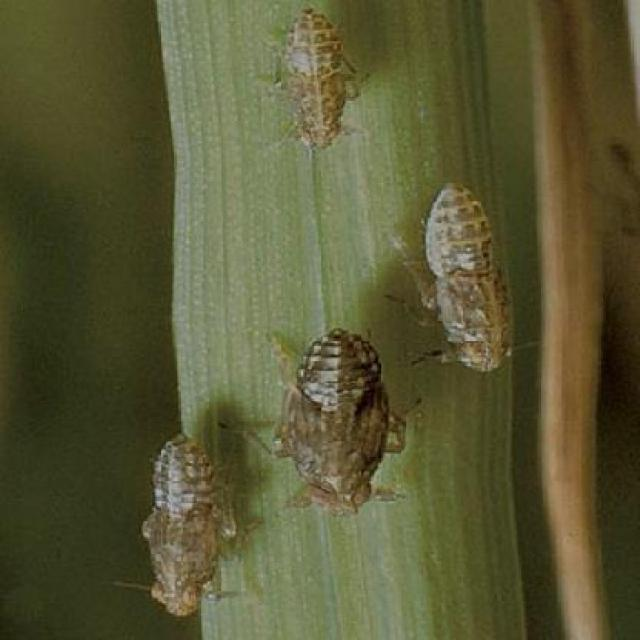brown-planthopper: (284, 328, 398, 515), (418, 180, 516, 374), (143, 436, 229, 616), (281, 11, 354, 149)
